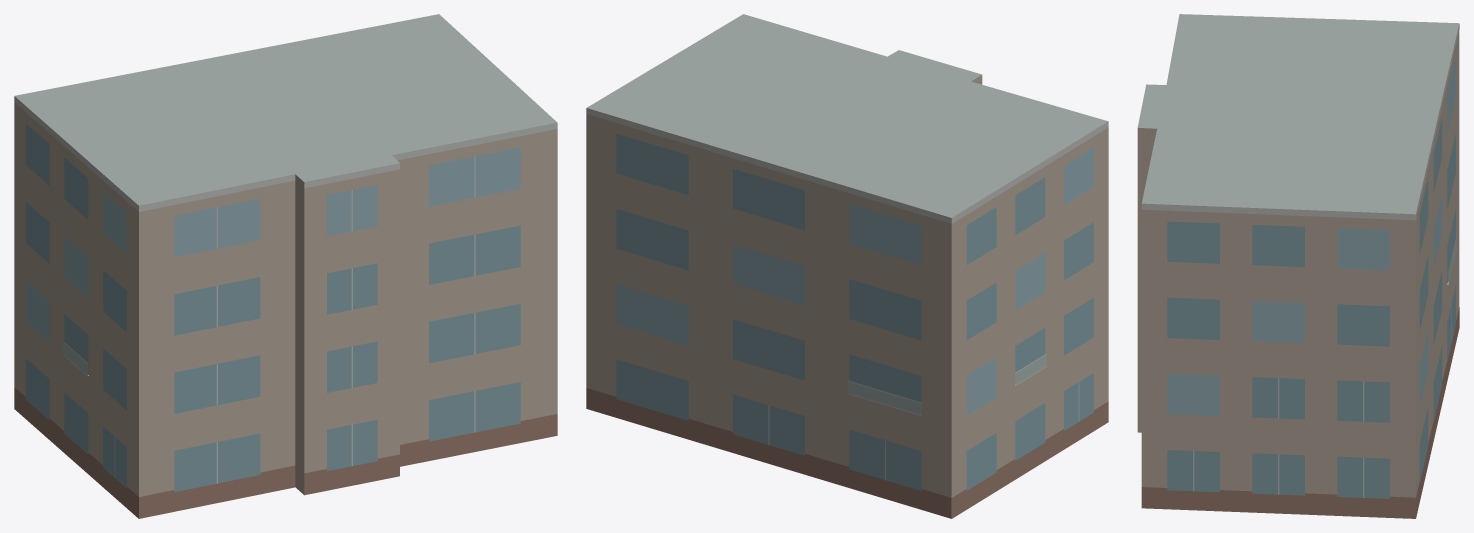
The model's file is survey-upis-32981562.glb.
The picture shows the model from 3 angles, left to right: view 1: azimuth 30°, elevation 25°; view 2: azimuth 150°, elevation 25°; view 3: azimuth 270°, elevation 25°; orthographic projection. The views are drawn at different scales.
Visible parts, largest first — view 1: survey-upis-32981562.tmp; view 2: survey-upis-32981562.tmp; view 3: survey-upis-32981562.tmp.
Boxes of the visible parts, box(x1,y1,x2,y2) form: survey-upis-32981562.tmp: box(14, 14, 557, 518); survey-upis-32981562.tmp: box(586, 14, 1108, 518); survey-upis-32981562.tmp: box(1137, 14, 1459, 518).
Bounding box in the file's own units: 17.21 × 12.2 × 11.69.
